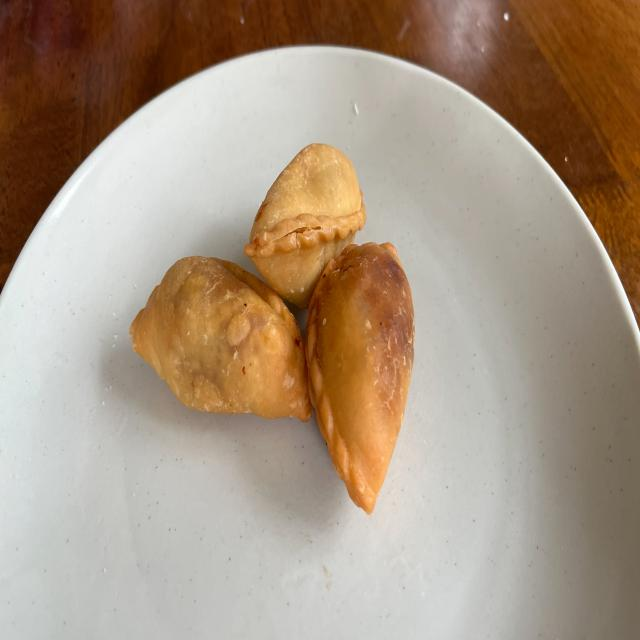karipap: (305, 242, 414, 513), (130, 258, 311, 420), (245, 144, 366, 307)
